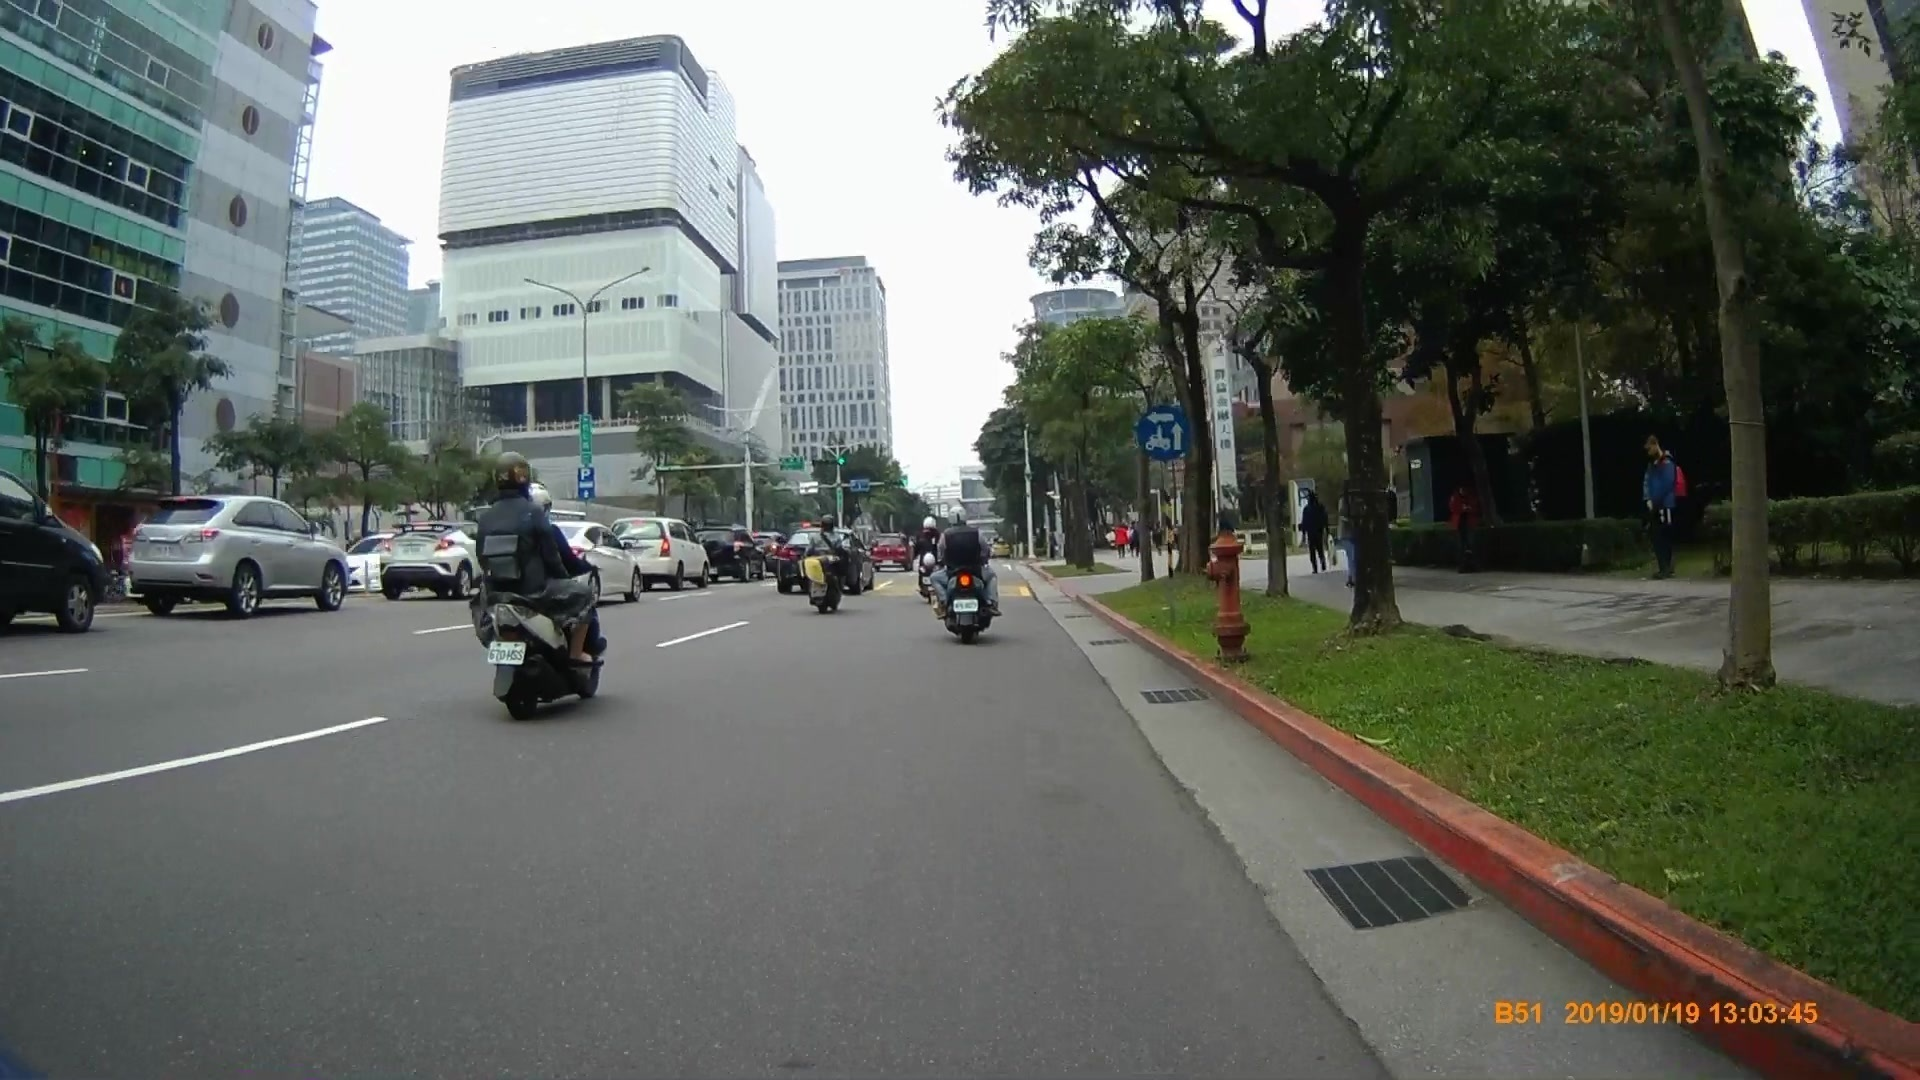License_plate: (486, 637, 528, 667), (148, 543, 184, 563), (952, 598, 980, 615)
